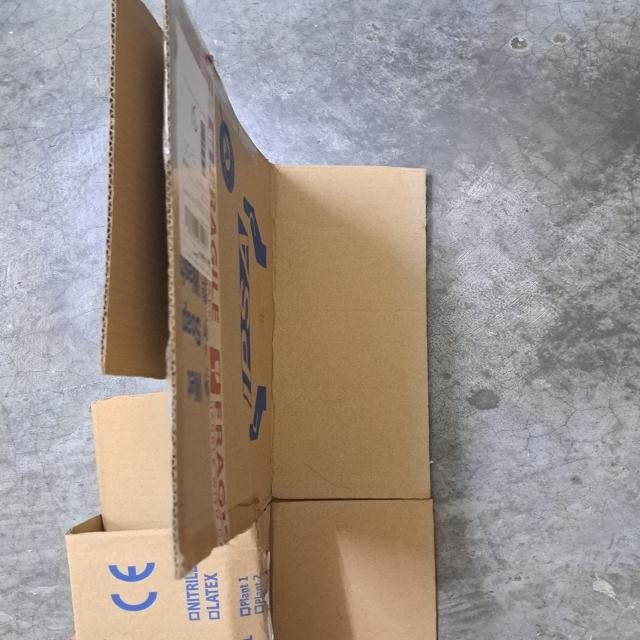cardboard: (61, 0, 435, 640)
